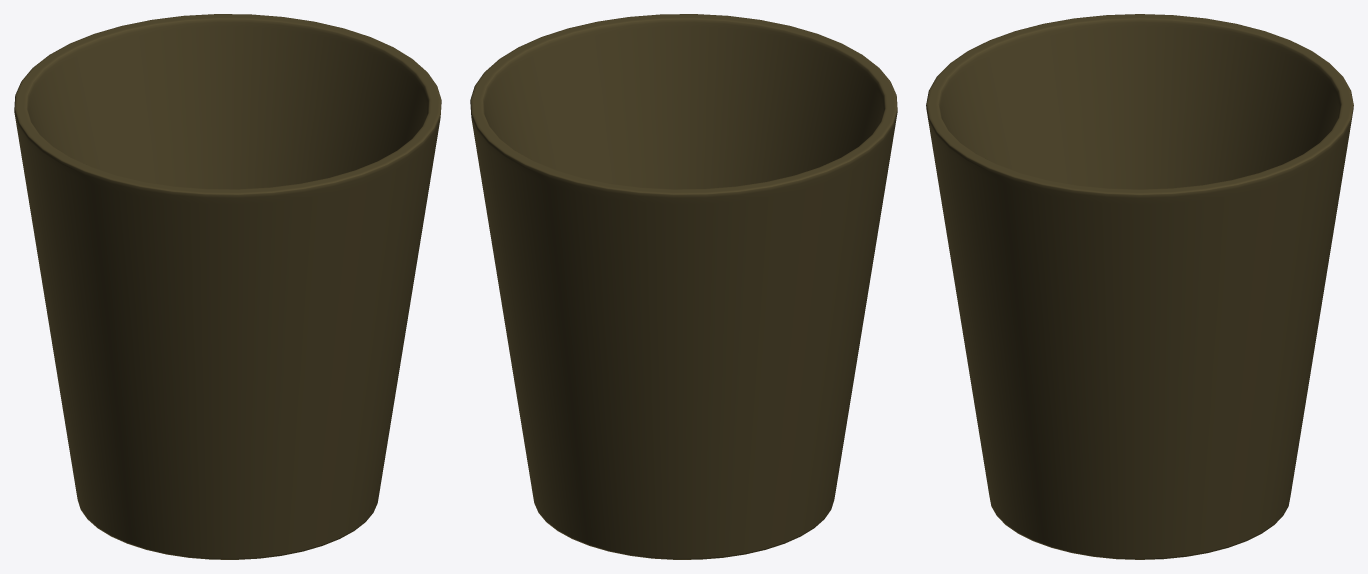
The model's file is Bucket1.fbx.
3 renders of one model, left to right at view 1: azimuth 30°, elevation 25°; view 2: azimuth 150°, elevation 25°; view 3: azimuth 270°, elevation 25°, orthographic.
Visible parts, largest first — view 1: Bucket1_High; view 2: Bucket1_High; view 3: Bucket1_High.
Boxes of the visible parts, bbox=[...] form: Bucket1_High: bbox=[14, 14, 441, 559]; Bucket1_High: bbox=[470, 14, 897, 559]; Bucket1_High: bbox=[926, 14, 1353, 559].
Size of the model in its own units: 0.5476 by 0.5559 by 0.5476.
